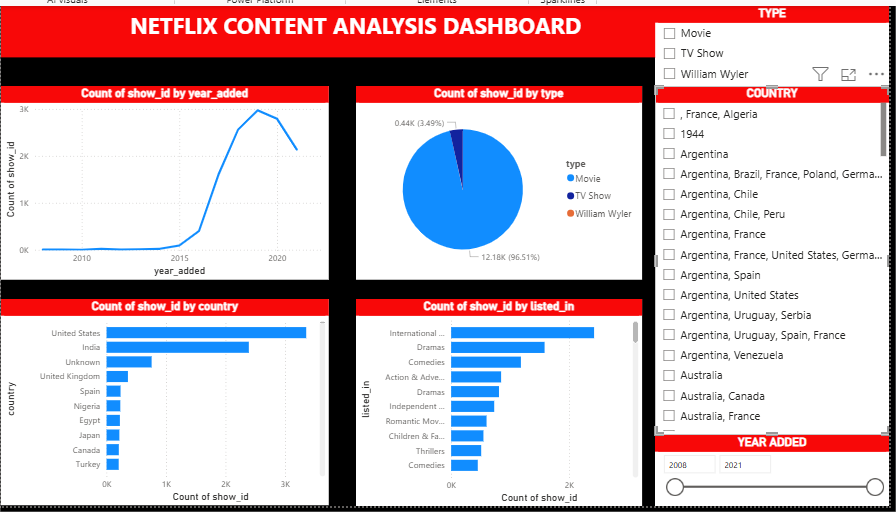

This screenshot's page, from the dashboard's own definition file:
{"tool":"powerbi","page":{"name":"Page 1","canvas":[1280,720],"ordinal":0},"visuals":[{"type":"pieChart","fields":{"Category":["netflix_titles.type"],"Y":["CountNonNull(netflix_titles.show_id)"]},"box":[510.7,115.9,411.5,278.8],"z":0},{"type":"lineChart","fields":{"Category":["netflix_titles.year_added"],"Y":["CountNonNull(netflix_titles.show_id)"]},"box":[0,115.9,472,278.8],"z":1},{"type":"clusteredBarChart","fields":{"Category":["netflix_titles.country"],"Y":["CountNonNull(netflix_titles.show_id)"]},"box":[0,421.6,472,297.3],"z":2},{"type":"clusteredBarChart","fields":{"Category":["netflix_titles.listed_in"],"Y":["CountNonNull(netflix_titles.show_id)"]},"box":[510.7,421.6,411.5,299],"z":3},{"type":"slicer","title":"TYPE","fields":{"Values":["netflix_titles.type"]},"box":[942.4,0,337.6,115.9],"z":4},{"type":"slicer","title":"COUNTRY","fields":{"Values":["netflix_titles.country"]},"box":[942.4,115.9,337.6,502.3],"z":5},{"type":"slicer","title":"YEAR ADDED","fields":{"Values":["netflix_titles.year_added"]},"box":[942.4,618.2,337.6,100.8],"z":6},{"type":"textbox","box":[0,0,942.4,73.9],"z":8}]}

Visuals, with their boxes in screenshot pixels (x1, y1, x2, y2):
pieChart - netflix_titles.type x CountNonNull(netflix_titles.show_id): 355, 85, 639, 277
lineChart - netflix_titles.year_added x CountNonNull(netflix_titles.show_id): 2, 85, 328, 277
clusteredBarChart - netflix_titles.country x CountNonNull(netflix_titles.show_id): 2, 296, 328, 501
clusteredBarChart - netflix_titles.listed_in x CountNonNull(netflix_titles.show_id): 355, 296, 639, 502
"TYPE" slicer: 653, 5, 886, 85
"COUNTRY" slicer: 653, 85, 886, 431
"YEAR ADDED" slicer: 653, 431, 886, 501
textbox: 2, 5, 653, 56
